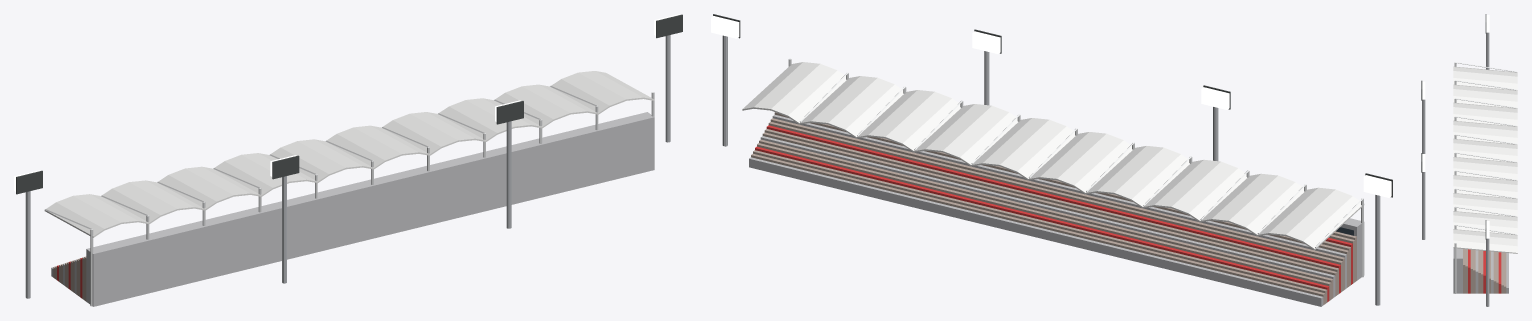
The model's file is losail_grandstand.glb.
3 renders of one model, left to right at view 1: azimuth 30°, elevation 25°; view 2: azimuth 150°, elevation 25°; view 3: azimuth 270°, elevation 25°, orthographic. The views are drawn at different scales.
Parts seen in each view (by area): view 1: stand, canopy, pylons; view 2: stand, canopy, pylons; view 3: canopy, stand, pylons.
Part boxes in pixels (<box>): stand: <box>51,112,654,306</box>; canopy: <box>44,71,654,306</box>; pylons: <box>14,14,682,298</box>; stand: <box>749,112,1364,306</box>; canopy: <box>742,58,1364,277</box>; pylons: <box>711,14,1392,305</box>; canopy: <box>1453,62,1517,293</box>; stand: <box>1453,248,1508,293</box>; pylons: <box>1421,14,1489,306</box>.
Bounding box in the file's own units: 237 × 42.4 × 45.
